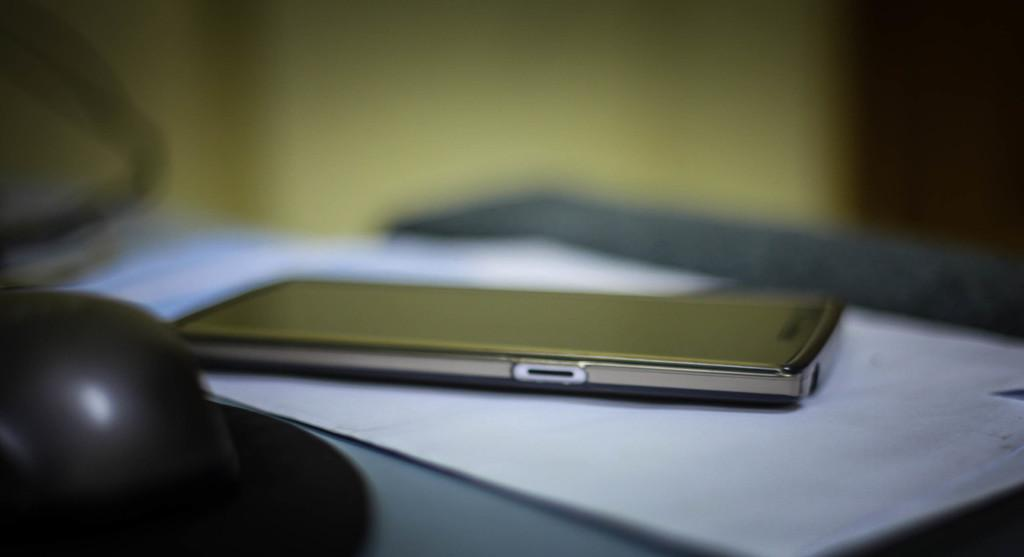Computer-mouse: (0, 291, 246, 556)
